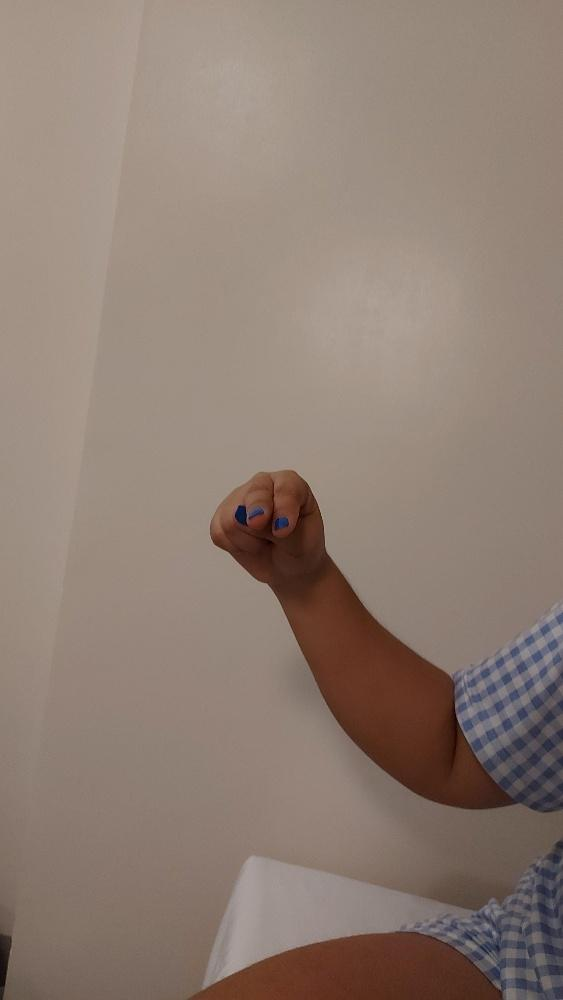n: (205, 463, 328, 585)
